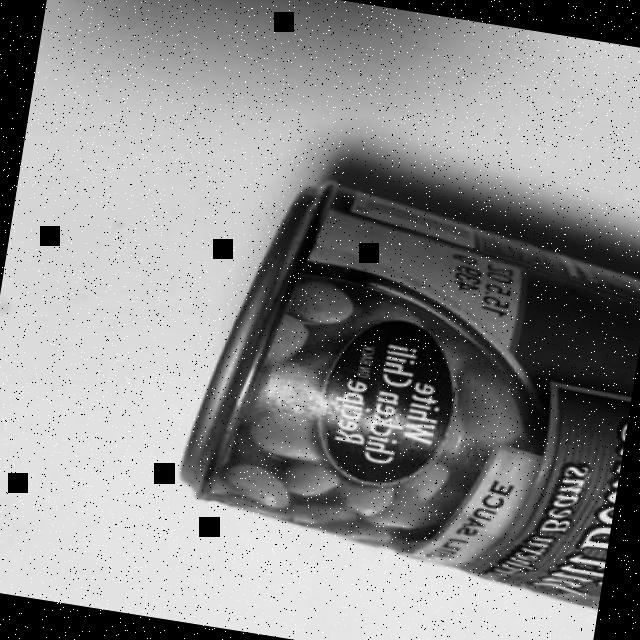can: (169, 158, 640, 612)
